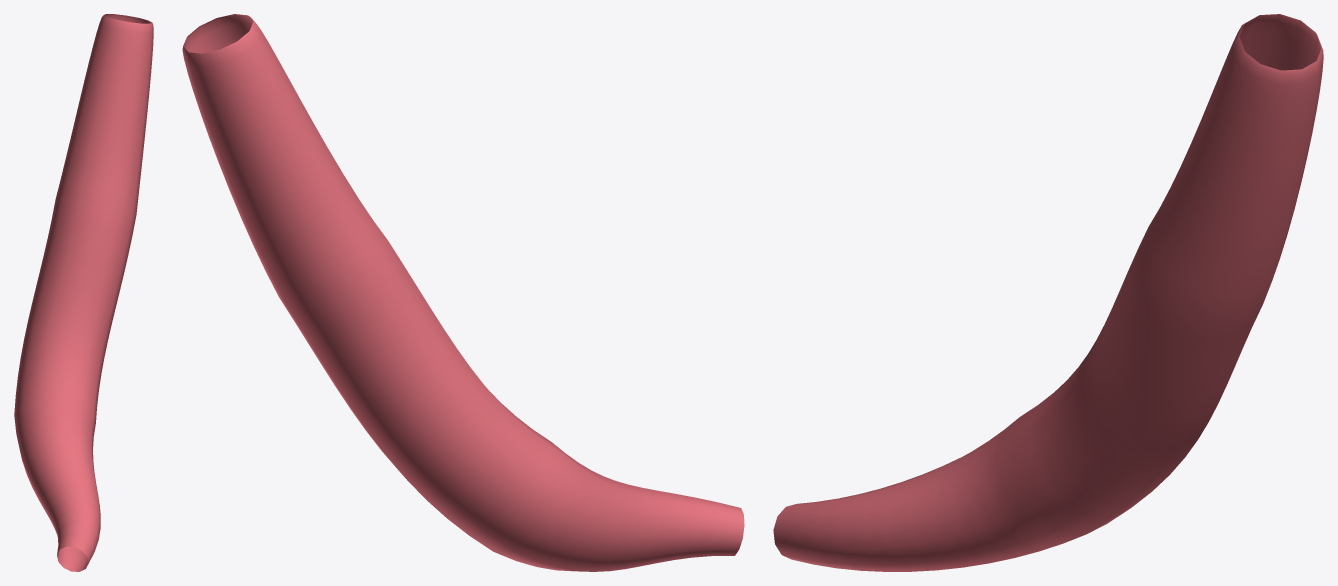
3 renders of one model, left to right at view 1: azimuth 30°, elevation 25°; view 2: azimuth 150°, elevation 25°; view 3: azimuth 270°, elevation 25°, orthographic. The views are drawn at different scales.
Parts seen in each view (by area): view 1: ZA_a4d421755c150f4f; view 2: ZA_a4d421755c150f4f; view 3: ZA_a4d421755c150f4f.
Part boxes in pixels (x1=…): ZA_a4d421755c150f4f: x1=14, y1=14, x2=153, y2=571; ZA_a4d421755c150f4f: x1=182, y1=14, x2=744, y2=571; ZA_a4d421755c150f4f: x1=773, y1=14, x2=1323, y2=571.
Size of the model in its own units: 0.0161 by 0.0273 by 0.0197.
